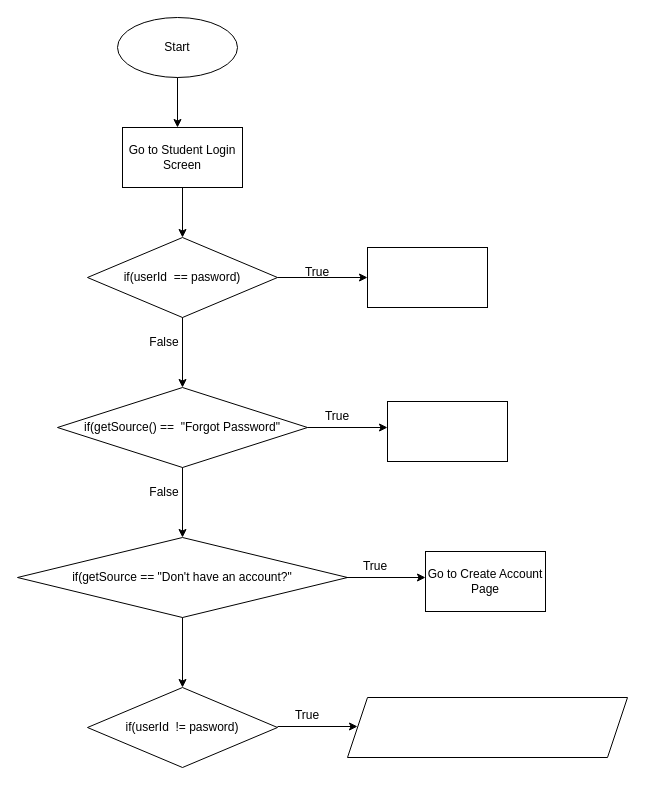
The diagram is 645 pixels wide and 785 high, and some of its shapes have lost their labels. The shapes that lost their labels are listed below. From the top down, each one's box as (x1, y1, x2, y2) in pixels, then its label:
(366, 246, 488, 308): Go to Student Main Frame
(386, 400, 508, 462): Go to Forgot Password Page
(346, 696, 628, 758): Display OptionPane with "Incorrect UserID or password"
